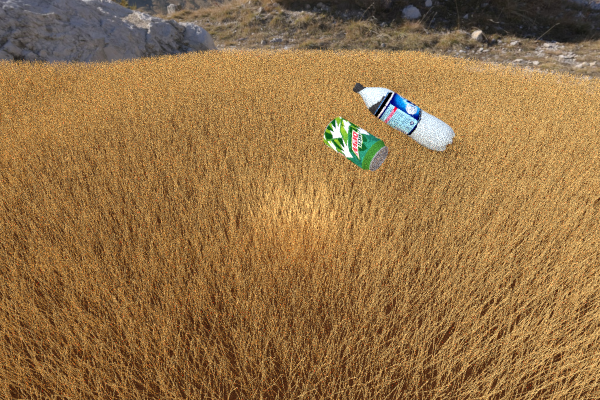Plastic Bottle: (352, 82, 454, 151), (323, 116, 388, 171), (141, 112, 211, 156)
